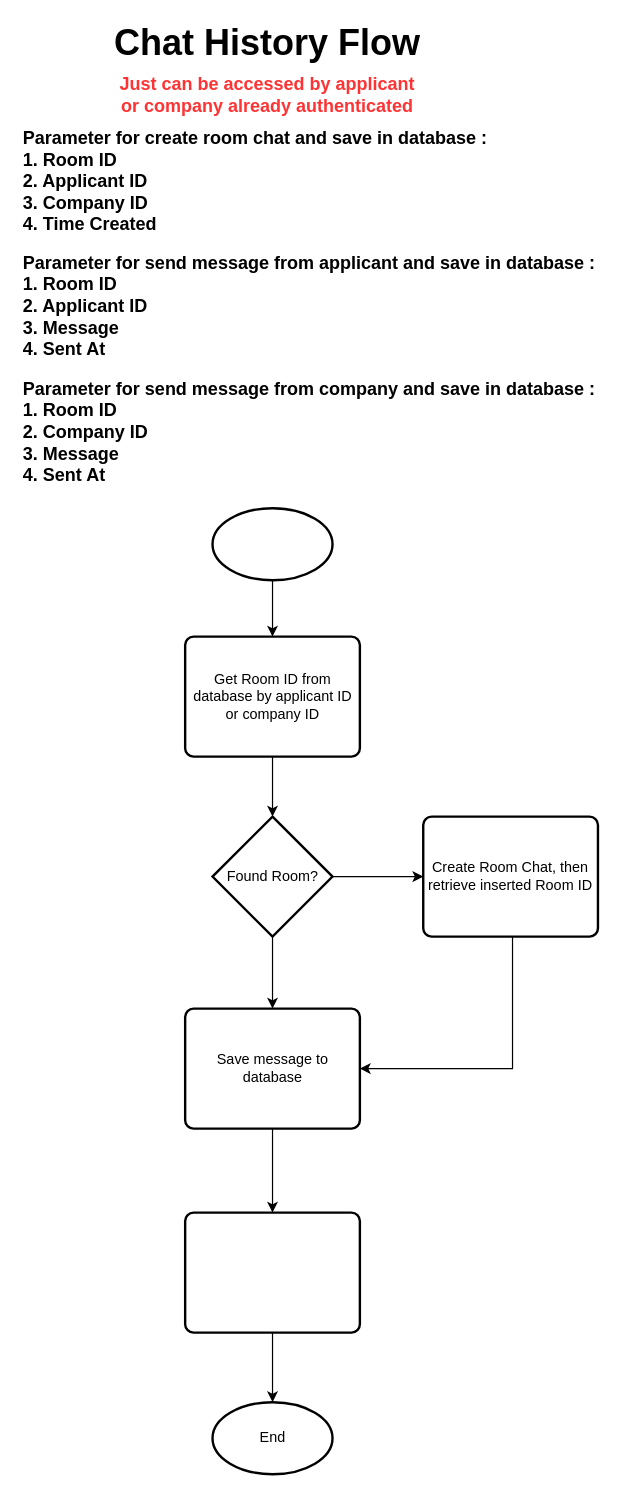
Some shapes in this 620 by 1495 pixel diagram are drawn without their labels. The centre of each missing label's shape, as x and y in pixels:
Forward message to Socket.io: the point at 271,1272
Start: the point at 272,543
